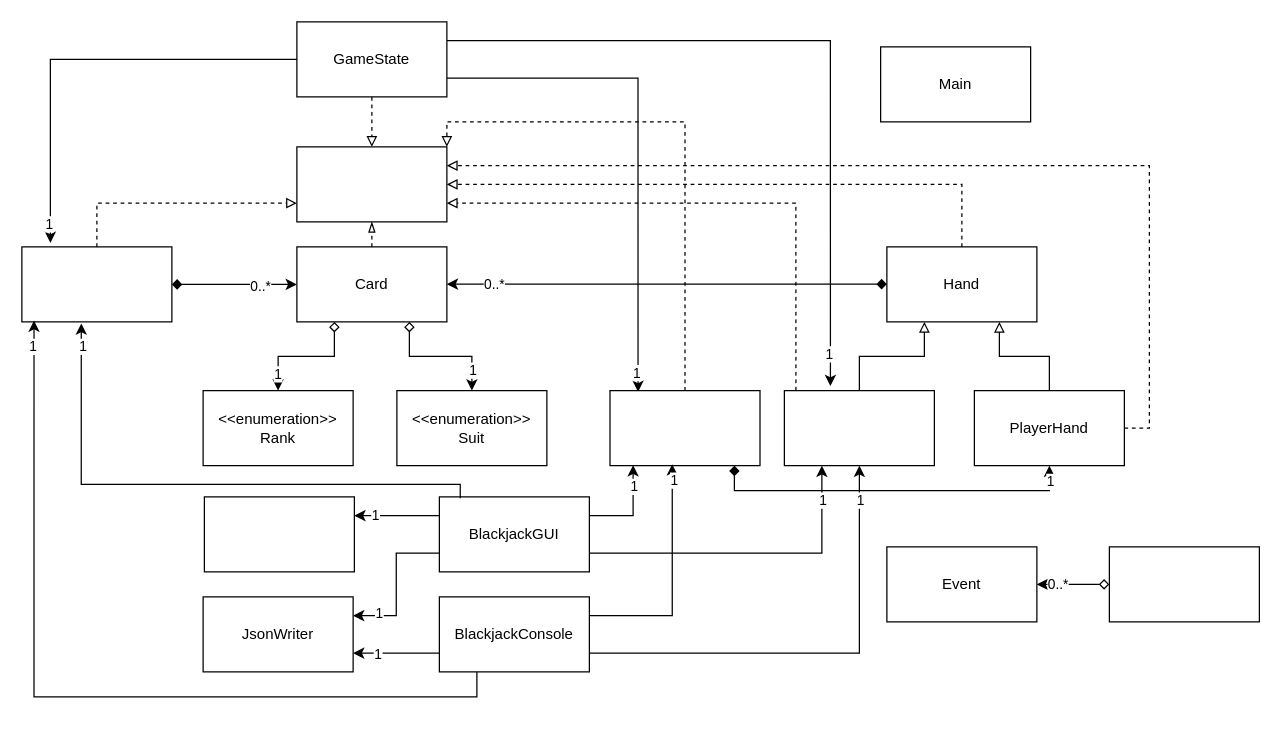
This 1281x729 diagram has some shape labels left out. The box of each missing label's shape, as (x1, y1, x2, y2) in pixels:
<<interface>> Writable: (296, 146, 447, 222)
DealerHand: (783, 389, 934, 466)
Deck: (21, 246, 172, 322)
EventLog: (1108, 546, 1259, 622)
JsonReader: (203, 496, 354, 572)
Player: (609, 389, 760, 466)
